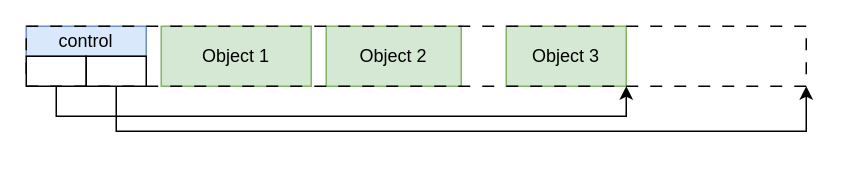
This 845x170 diagram has some shape labels left out. The shapes that lost their labels are listed below. From the top down, each one's box as (x1, y1, x2, y2) in pixels, then its label:
(25, 55, 86, 86): data
(85, 55, 146, 86): end
